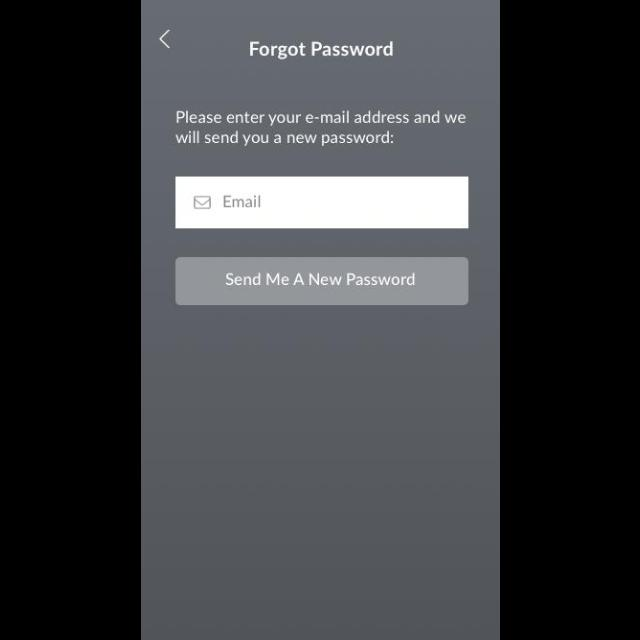icon: (193, 196, 211, 210), (158, 30, 170, 50)
input: (175, 177, 468, 229)
text: (174, 110, 466, 148), (250, 41, 394, 61), (223, 195, 260, 208)
textbutton: (175, 258, 469, 306)
